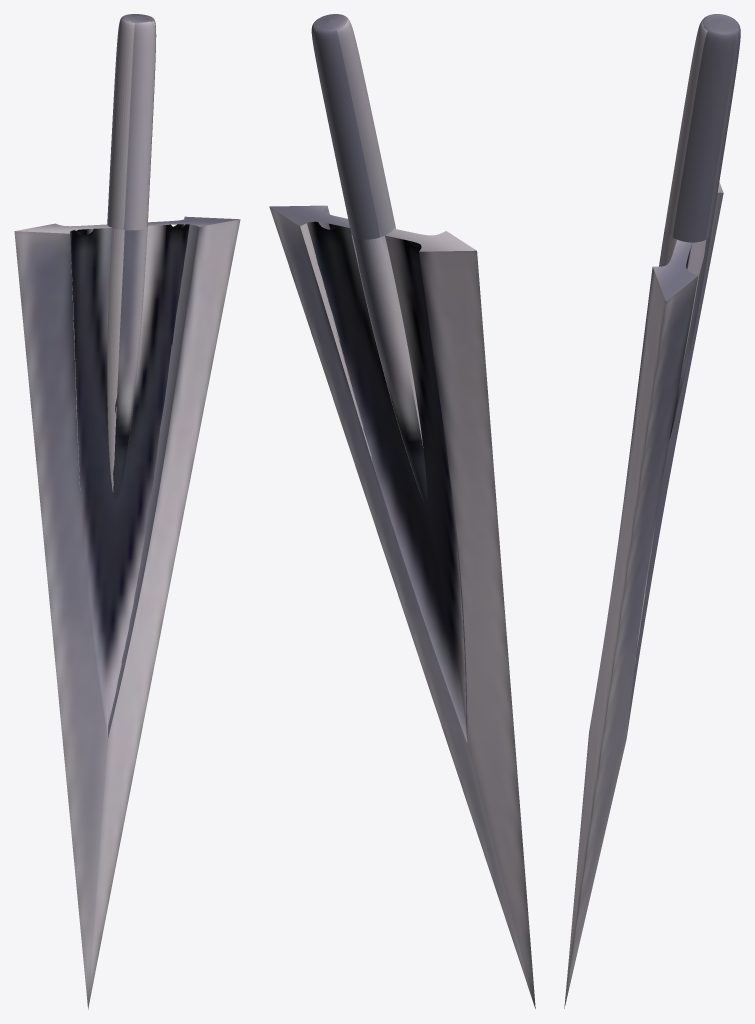
File: nail.obj
3 renders of one model, left to right at view 1: azimuth 30°, elevation 25°; view 2: azimuth 150°, elevation 25°; view 3: azimuth 270°, elevation 25°, orthographic. The views are drawn at different scales.
Visible parts, largest first — view 1: Hollow_Knight_Channel_Nail; view 2: Hollow_Knight_Channel_Nail; view 3: Hollow_Knight_Channel_Nail.
Part boxes in pixels (bbox=[...]): Hollow_Knight_Channel_Nail: bbox=[14, 14, 240, 1009]; Hollow_Knight_Channel_Nail: bbox=[269, 14, 535, 1008]; Hollow_Knight_Channel_Nail: bbox=[564, 14, 740, 1008].
Size of the model in its own units: 1.77 by 7.47 by 1.13.
